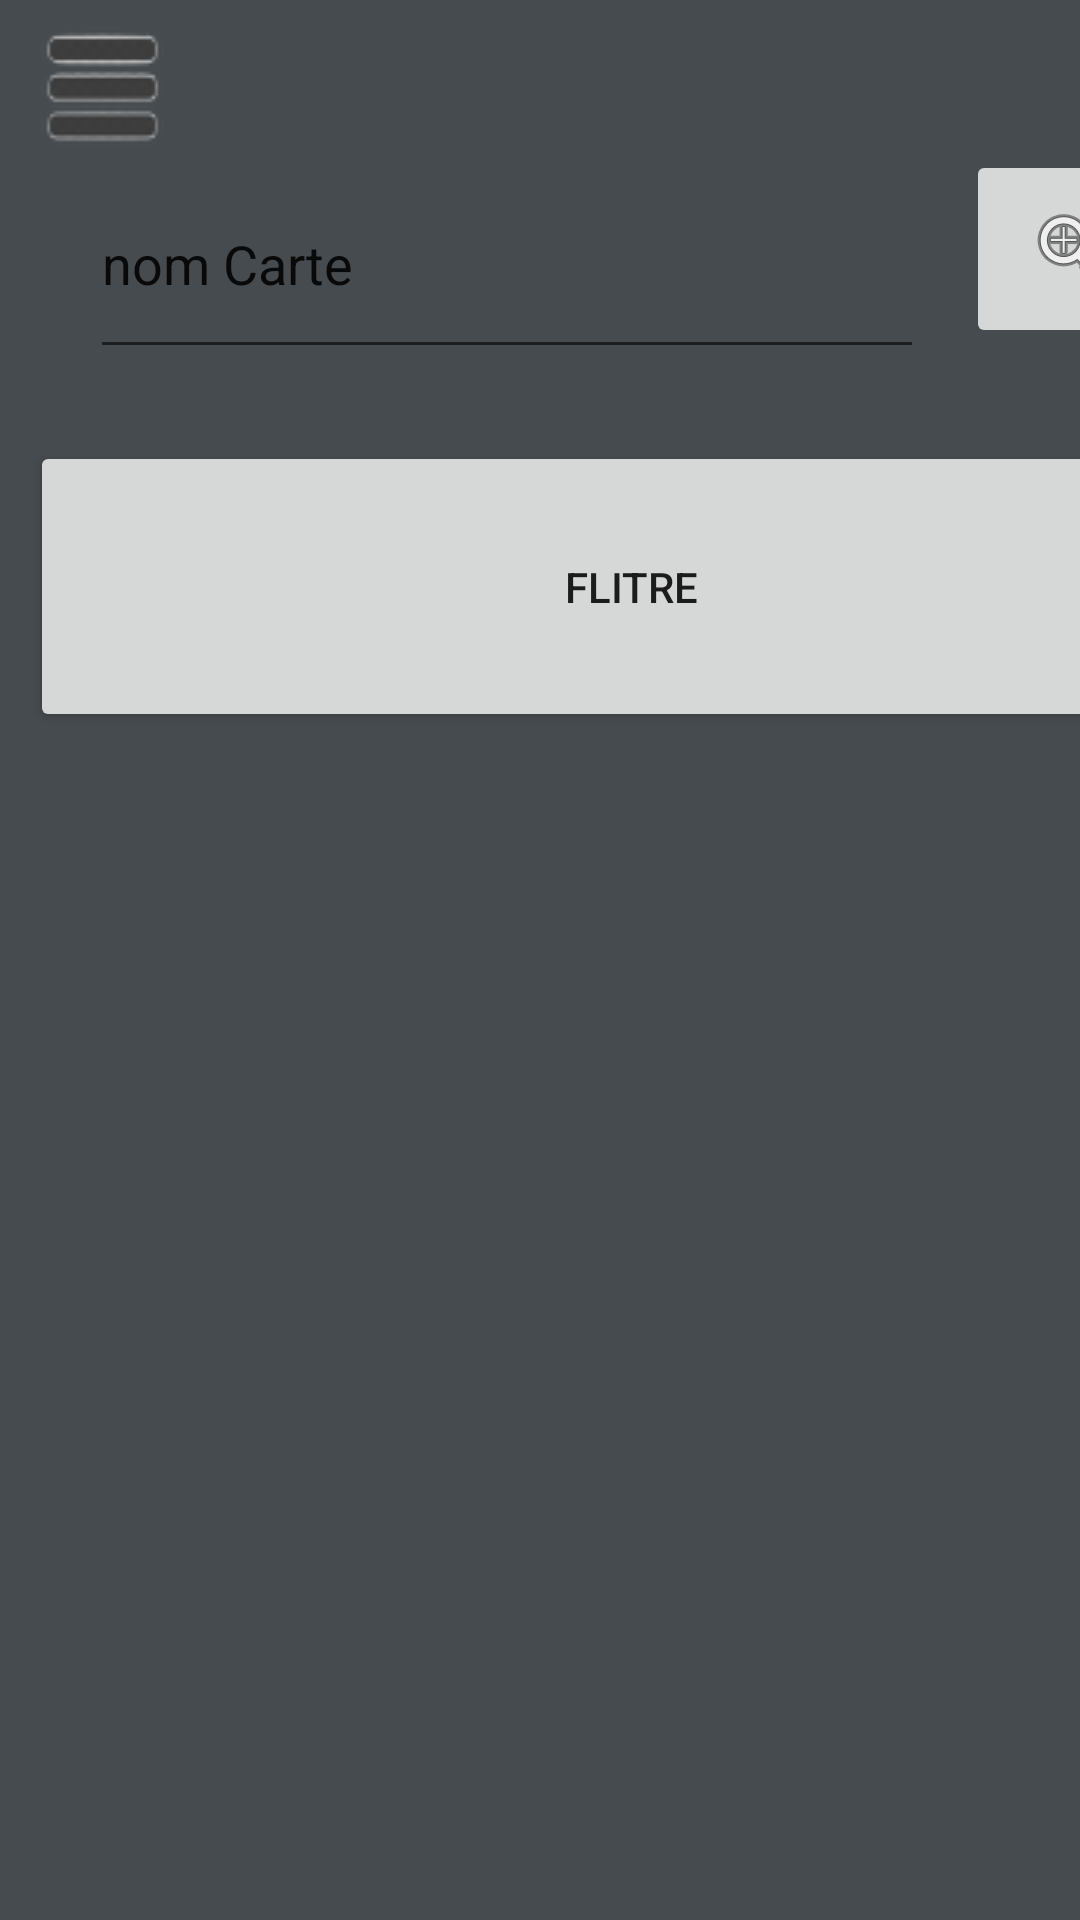

Screen size 1080×1920. Icon name, then its center in pixels as [x,y]:
Ouvrir le menu déroulant: [102,87]
